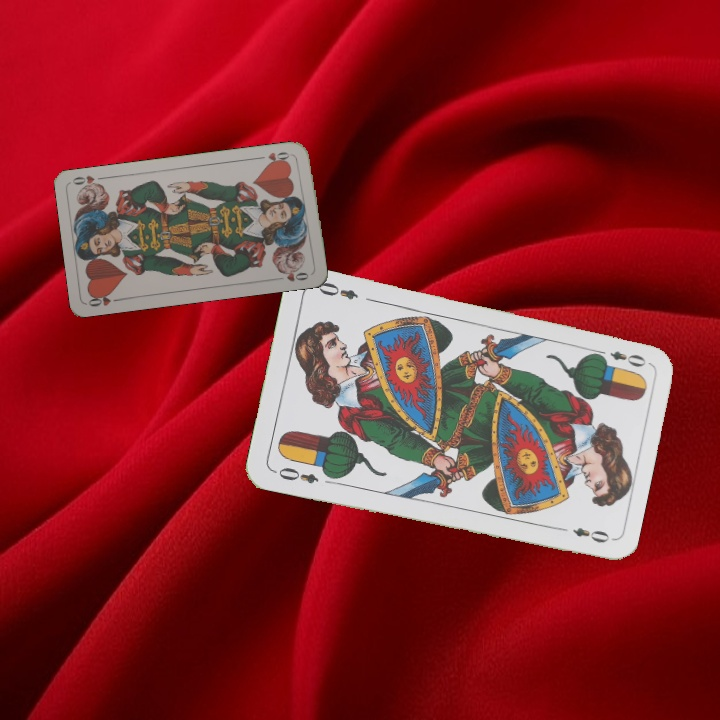EO: (591, 345, 649, 370), (269, 463, 321, 487)
HO: (84, 289, 124, 309), (255, 148, 296, 167)
